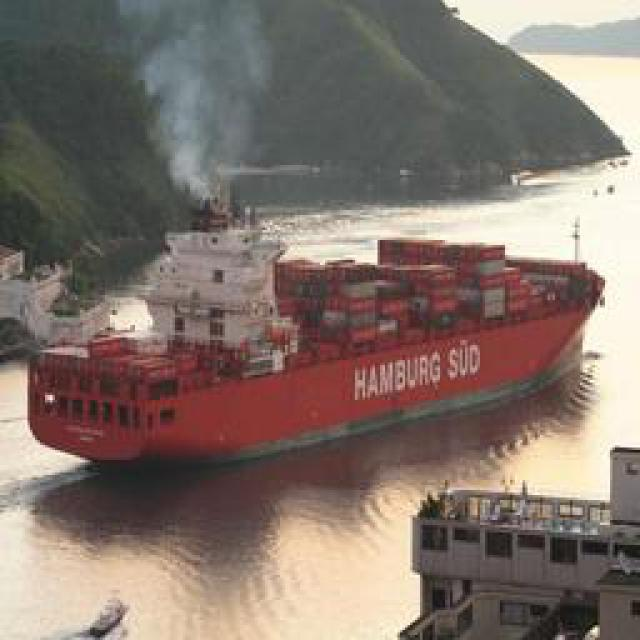Ship: (16, 193, 599, 491)
